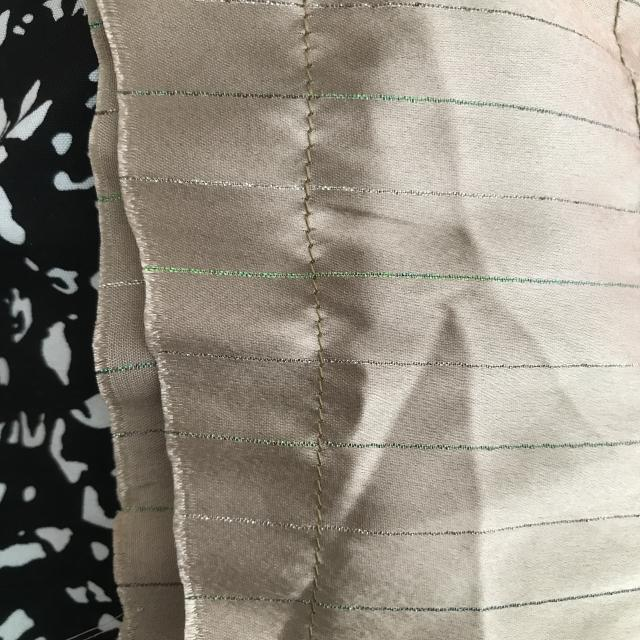good: (291, 198, 335, 266), (287, 103, 324, 174), (304, 459, 339, 517), (306, 373, 343, 427)
